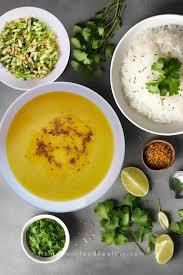rice: (129, 30, 183, 119)
varan: (18, 95, 105, 199)
